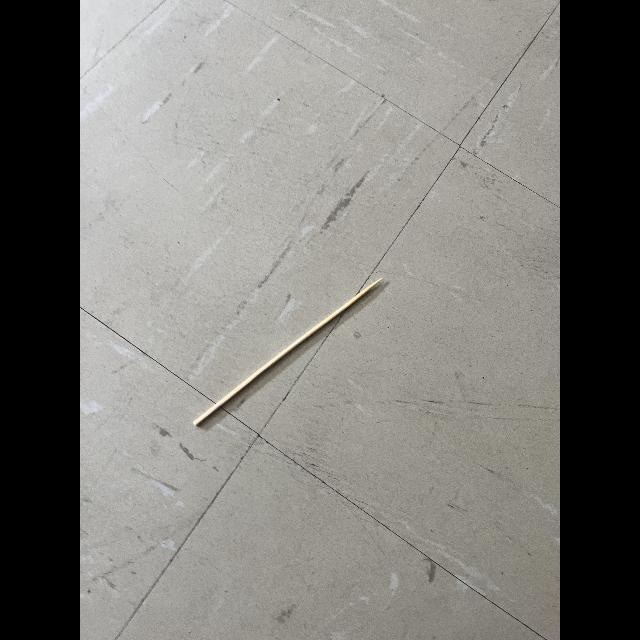stick: (188, 263, 394, 439)
